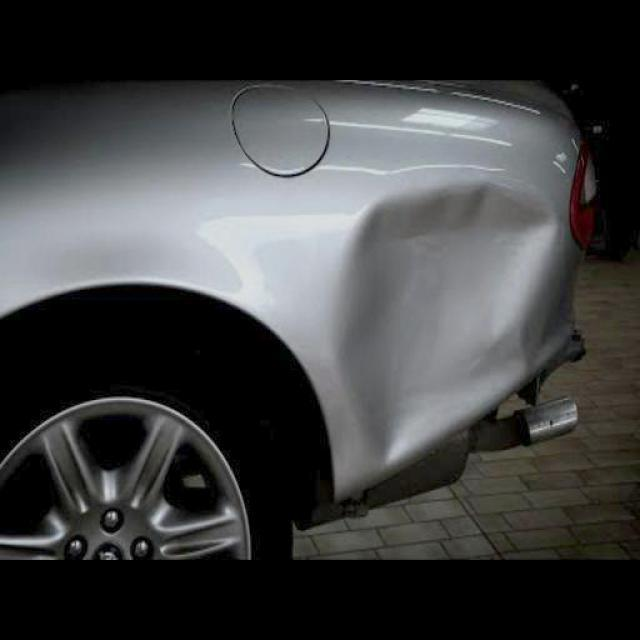car damage: (326, 170, 560, 463)
